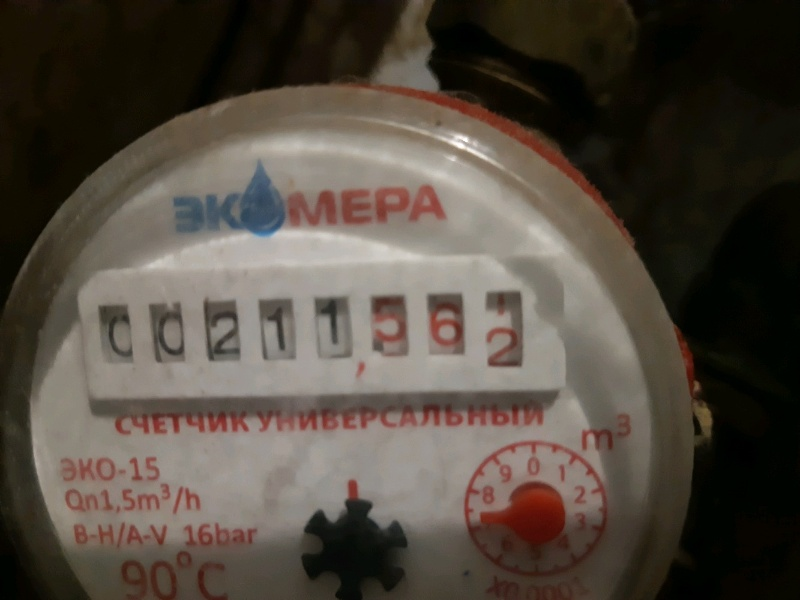meter: (71, 279, 581, 396)
